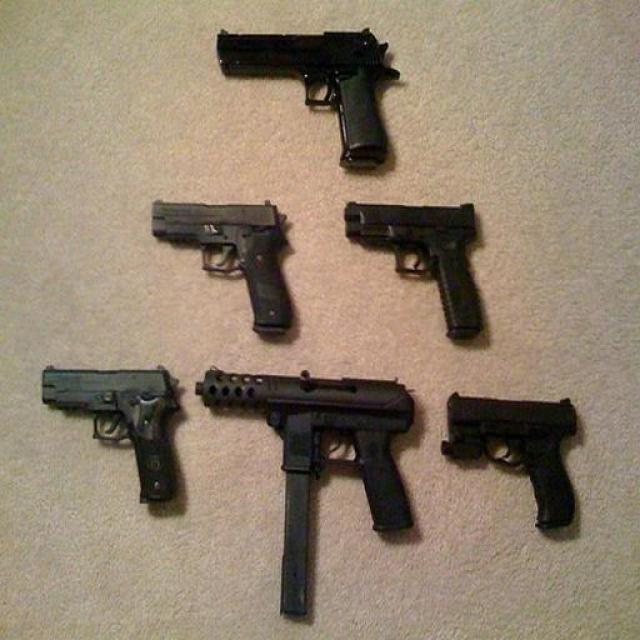pistol: (215, 25, 401, 166), (341, 199, 487, 338), (443, 386, 579, 534), (41, 362, 181, 501), (151, 196, 292, 334)
